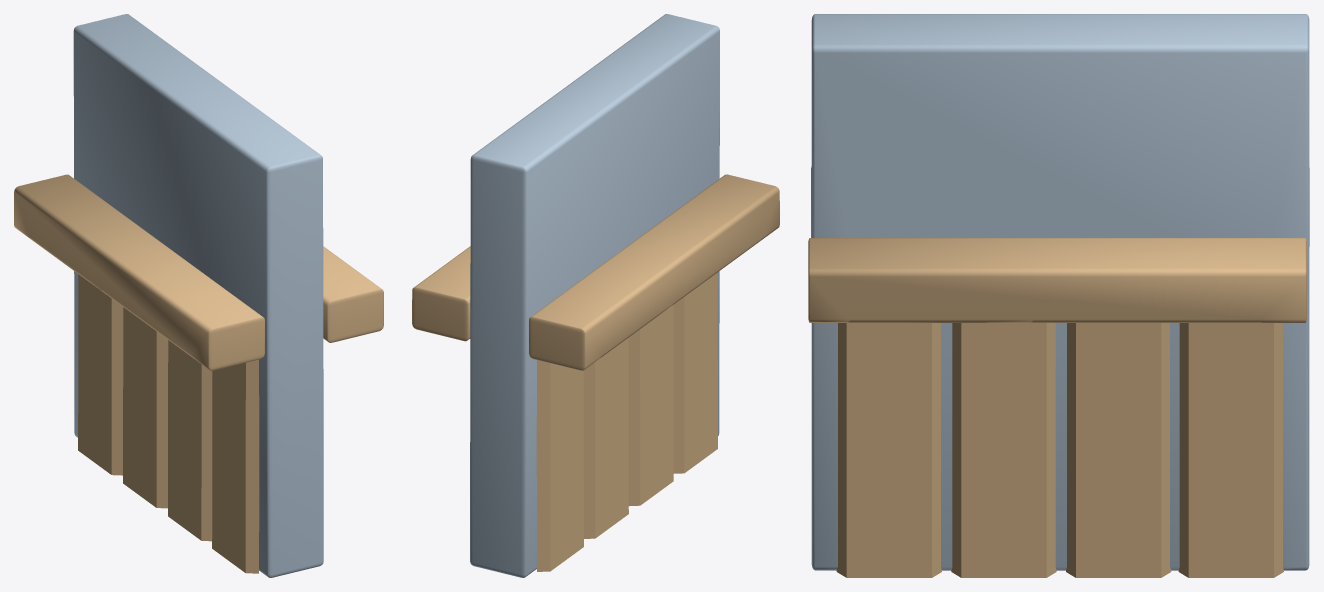
File: çokkısa_iç_duvar.fbx
3 renders of one model, left to right at view 1: azimuth 30°, elevation 25°; view 2: azimuth 150°, elevation 25°; view 3: azimuth 270°, elevation 25°, orthographic. The views are drawn at different scales.
Parts seen in each view (by area): view 1: Cube.172, Cube.174, Cube.173, Cube.175; view 2: Cube.172, Cube.174, Cube.173, Cube.175; view 3: Cube.172, Cube.176, Cube.175.
Part boxes in pixels (left/top/right/bottom): Cube.172: left=73, top=14, right=323, bottom=577; Cube.174: left=78, top=274, right=259, bottom=573; Cube.173: left=14, top=174, right=264, bottom=370; Cube.175: left=323, top=246, right=383, bottom=342; Cube.172: left=470, top=14, right=719, bottom=577; Cube.174: left=536, top=272, right=717, bottom=571; Cube.173: left=529, top=174, right=779, bottom=370; Cube.175: left=412, top=246, right=470, bottom=341; Cube.172: left=811, top=14, right=1309, bottom=570; Cube.176: left=836, top=323, right=1283, bottom=577; Cube.175: left=808, top=238, right=1306, bottom=322.
Bounding box in the file's own units: 239 × 538 × 466.
